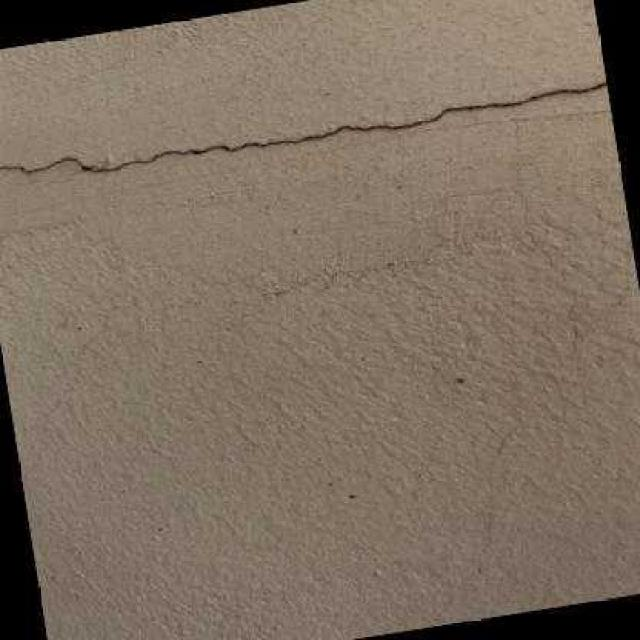D00: (0, 80, 606, 171)
